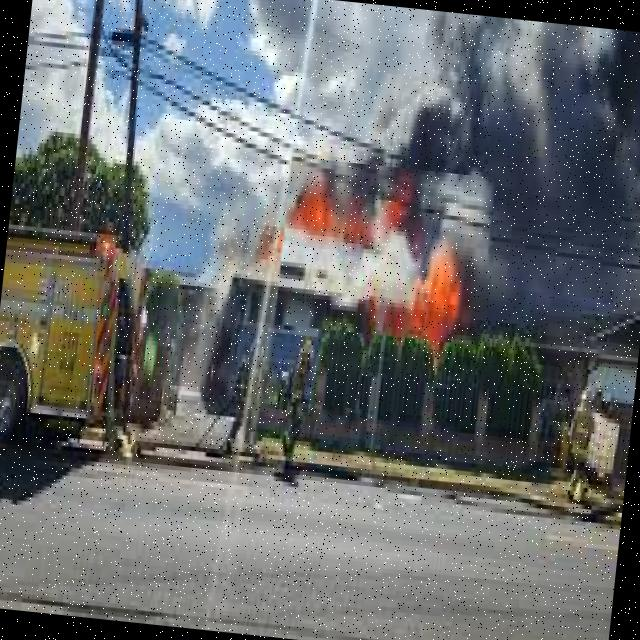fire: (274, 160, 494, 348)
